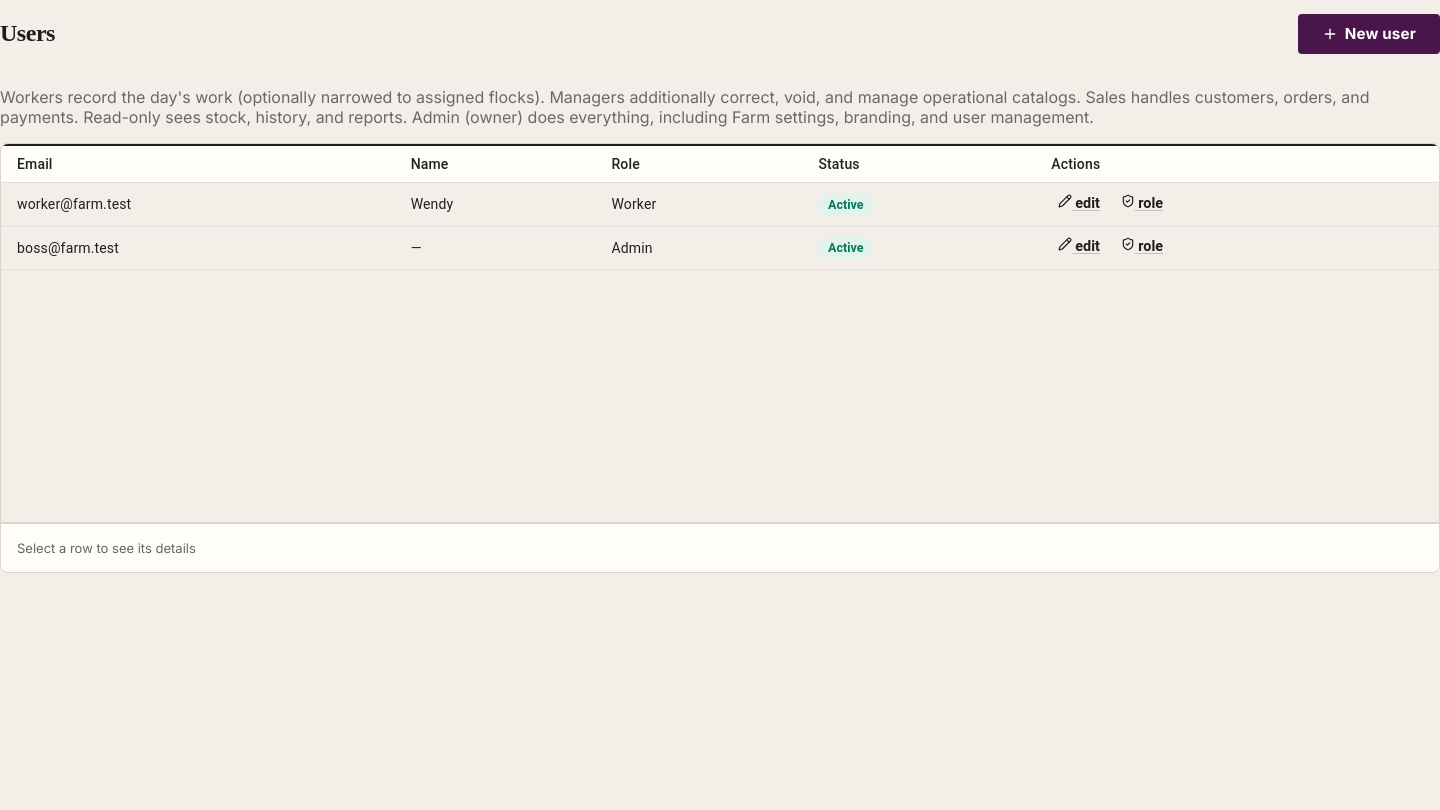
Test: UsersPage selected-record inspector (#908) › opens the same edit dialog from the inspector's own edit action
Expected: the text "worker@farm.test" is shown, [1,183,395,226]
Click the row "worker@farm.test Wendy Worker Active edit role" at (720, 204), box [1,183,1439,226]
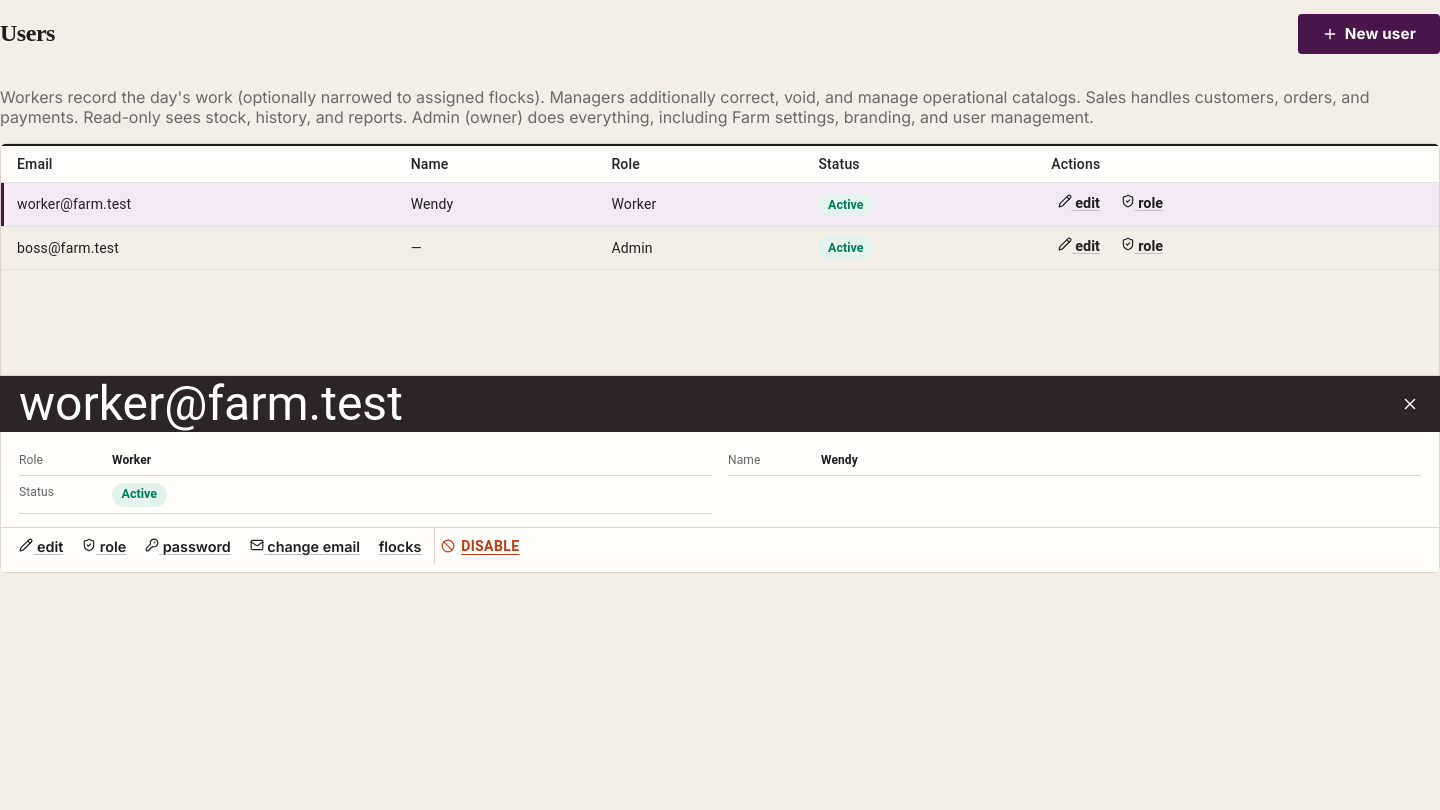
Click the 3rd button "edit" at (41, 546), box [13,533,70,560]
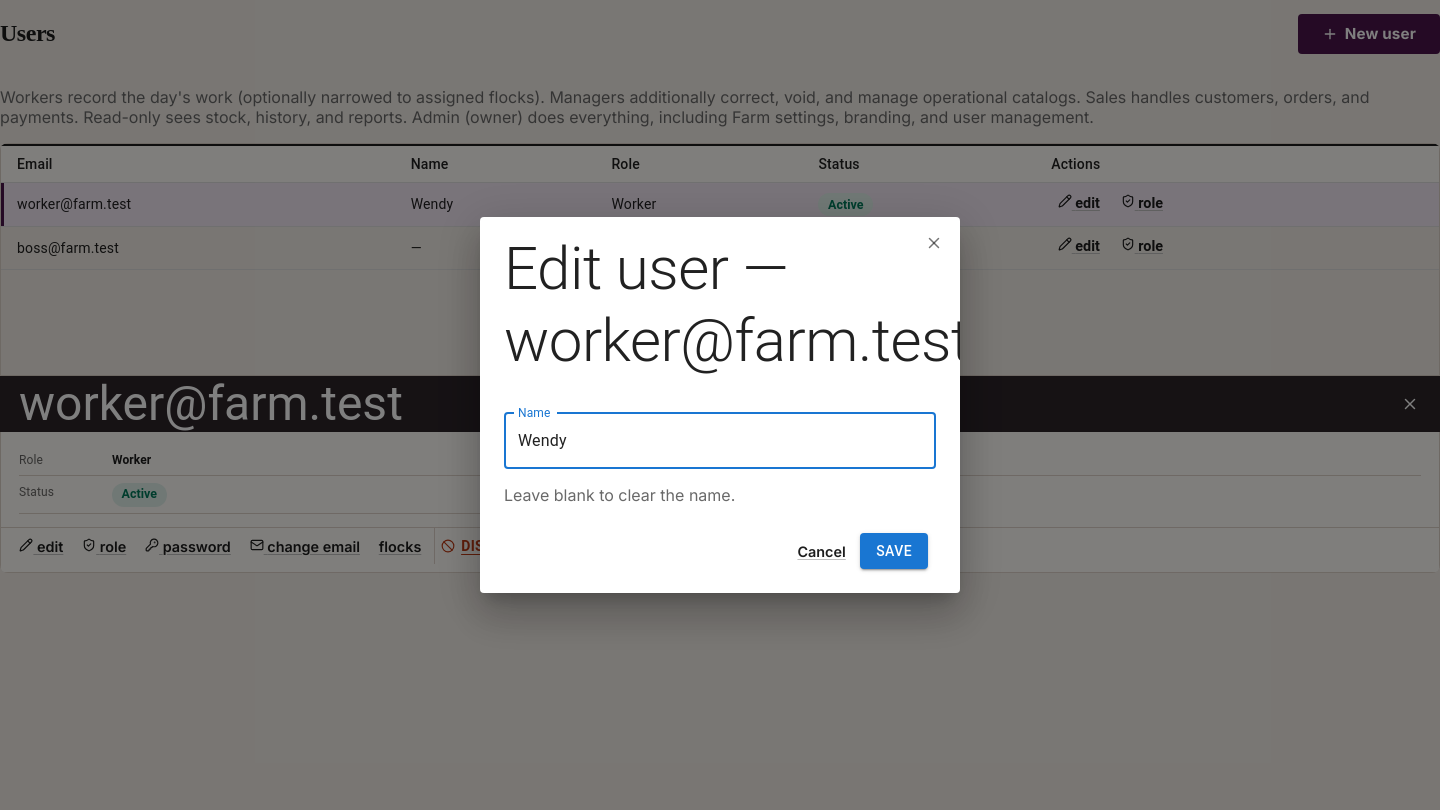
Expected: the field labelled "Name" holds "Wendy", [504,413,936,469]
